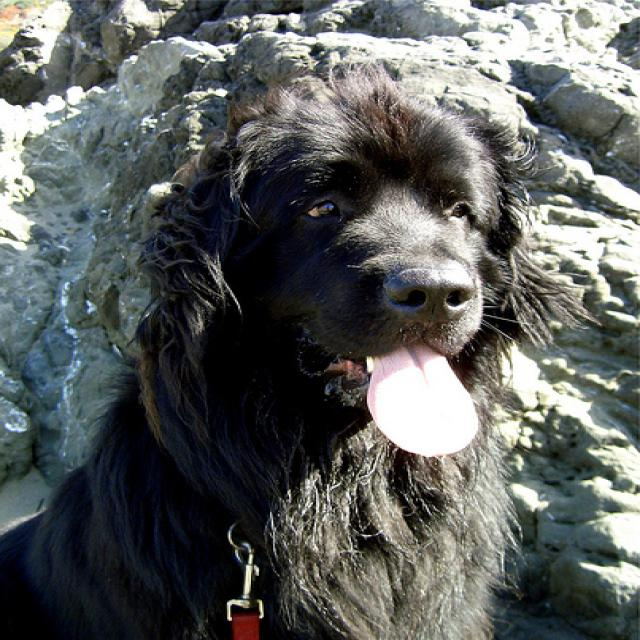dog-newfoundland: (2, 90, 553, 637)
